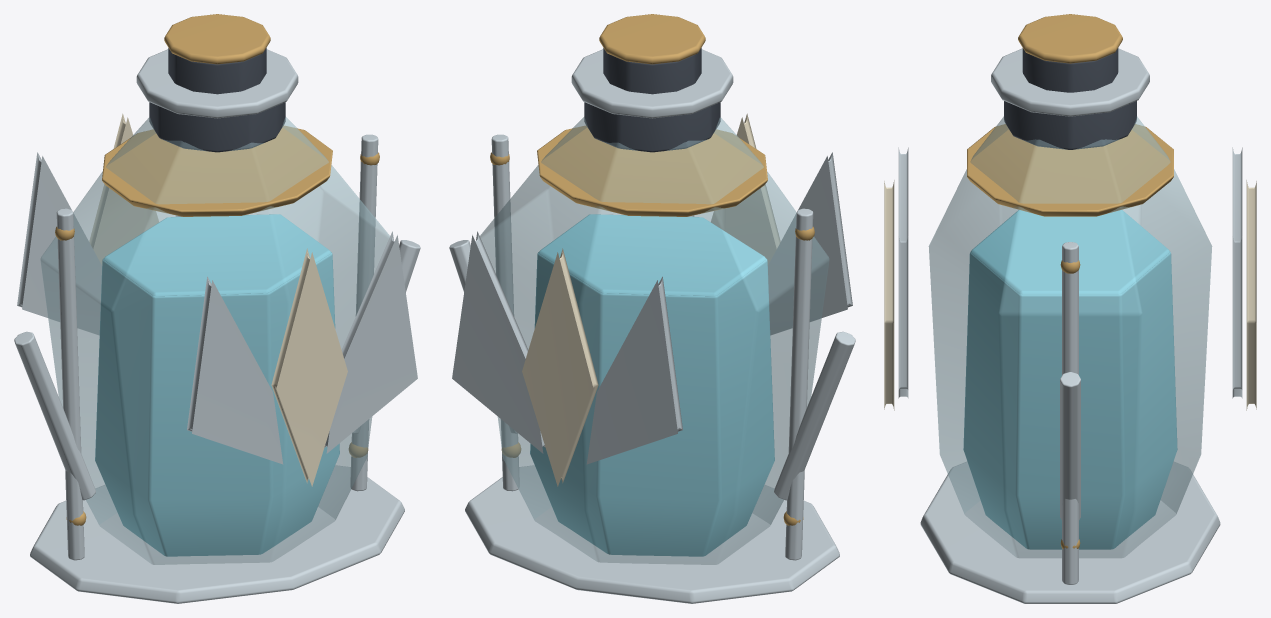
File: SM_Flask_Ice.fbx
3 views of the same model, side by side, from view 1: azimuth 30°, elevation 25°; view 2: azimuth 150°, elevation 25°; view 3: azimuth 270°, elevation 25° (orthographic).
Parts seen in each view (by area): view 1: glass_CutVessel, liquid_ContainedEssence, metal_BaseRing, gold_ShoulderRim, liquid_Meniscus, metal_FrostWing_Front, ivory_IceCore_Front, metal_FrostWing_Front.001, metal_FrostWing_Back, metal_MouthLip, metal_CradleRail, dark_NeckSleeve (+6 smaller); view 2: glass_CutVessel, liquid_ContainedEssence, metal_BaseRing, gold_ShoulderRim, liquid_Meniscus, metal_FrostWing_Back, ivory_IceCore_Back, metal_FrostWing_Back.001, metal_FrostWing_Front, metal_MouthLip, metal_CradleRail, dark_NeckSleeve (+6 smaller); view 3: glass_CutVessel, liquid_ContainedEssence, metal_BaseRing, gold_ShoulderRim, liquid_Meniscus, metal_MouthLip, dark_NeckSleeve, gold_CapInset, metal_CradleRail.001, dark_SealedStopper, metal_IceFin.001, ivory_IceCore_Back (+5 smaller).
Boxes of the visible parts, x1,y1,x2,y2 form: glass_CutVessel: [40, 117, 389, 564]; liquid_ContainedEssence: [95, 252, 339, 556]; metal_BaseRing: [30, 465, 404, 603]; gold_ShoulderRim: [102, 126, 332, 216]; liquid_Meniscus: [104, 214, 331, 296]; metal_FrostWing_Front: [187, 276, 283, 464]; ivory_IceCore_Front: [271, 248, 347, 486]; metal_FrostWing_Front.001: [324, 231, 417, 453]; metal_FrostWing_Back: [17, 152, 101, 334]; metal_MouthLip: [136, 49, 298, 118]; metal_CradleRail: [56, 208, 84, 560]; dark_NeckSleeve: [149, 102, 285, 152]; glass_CutVessel: [480, 117, 829, 564]; liquid_ContainedEssence: [530, 252, 774, 556]; metal_BaseRing: [465, 465, 839, 603]; gold_ShoulderRim: [537, 126, 767, 216]; liquid_Meniscus: [538, 214, 765, 296]; metal_FrostWing_Back: [586, 276, 682, 464]; ivory_IceCore_Back: [522, 248, 598, 486]; metal_FrostWing_Back.001: [452, 231, 545, 453]; metal_FrostWing_Front: [768, 152, 852, 334]; metal_MouthLip: [571, 49, 733, 118]; metal_CradleRail: [785, 208, 813, 560]; dark_NeckSleeve: [584, 102, 720, 152]; glass_CutVessel: [928, 116, 1212, 557]; liquid_ContainedEssence: [963, 252, 1177, 549]; metal_BaseRing: [920, 462, 1220, 603]; gold_ShoulderRim: [967, 124, 1173, 216]; liquid_Meniscus: [971, 210, 1169, 294]; metal_MouthLip: [991, 48, 1149, 116]; dark_NeckSleeve: [1004, 101, 1136, 149]; gold_CapInset: [1018, 14, 1122, 63]; metal_CradleRail.001: [1062, 242, 1078, 584]; dark_SealedStopper: [1022, 48, 1118, 92]; metal_IceFin.001: [1060, 372, 1080, 519]; ivory_IceCore_Back: [1246, 180, 1256, 410].
Bounding box in the file's own units: 41.84 × 50.5 × 34.
